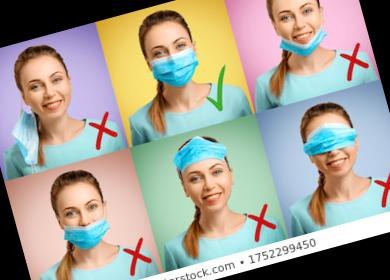mask_weared_incorrect: (173, 139, 243, 220), (302, 115, 368, 184), (56, 193, 113, 253)
with_mask: (147, 31, 201, 91)
without_mask: (23, 65, 75, 123)
